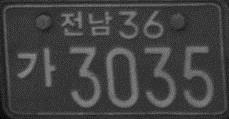0: (104, 47, 139, 109)
3: (67, 46, 102, 109), (141, 45, 176, 108), (116, 9, 138, 40)
5: (182, 44, 214, 108)
6: (141, 8, 164, 39)
가: (16, 45, 56, 87)
전남_O: (59, 9, 113, 37)
